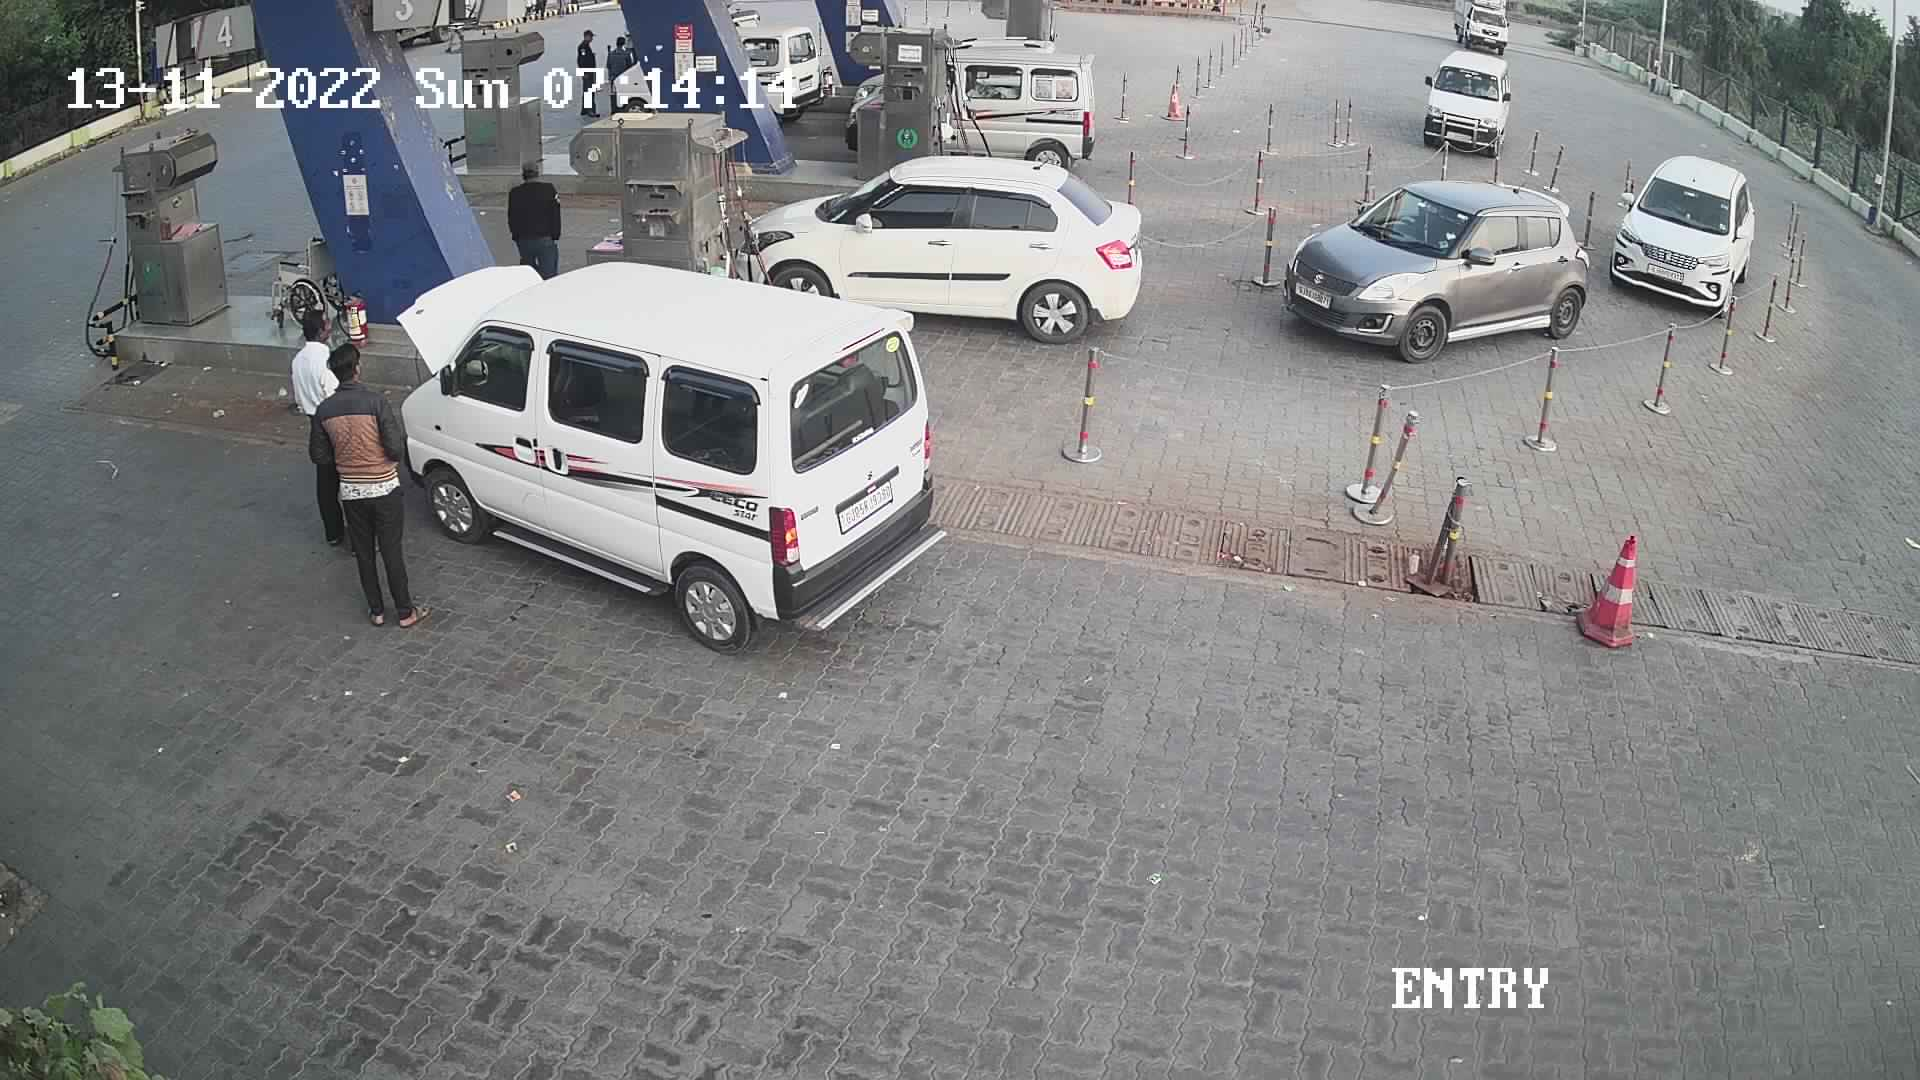Car: (385, 248, 957, 665), (738, 146, 1155, 351), (1273, 167, 1601, 368), (593, 1, 840, 142), (1594, 149, 1762, 324), (931, 24, 1110, 179), (1411, 44, 1514, 161), (1444, 1, 1518, 66)
